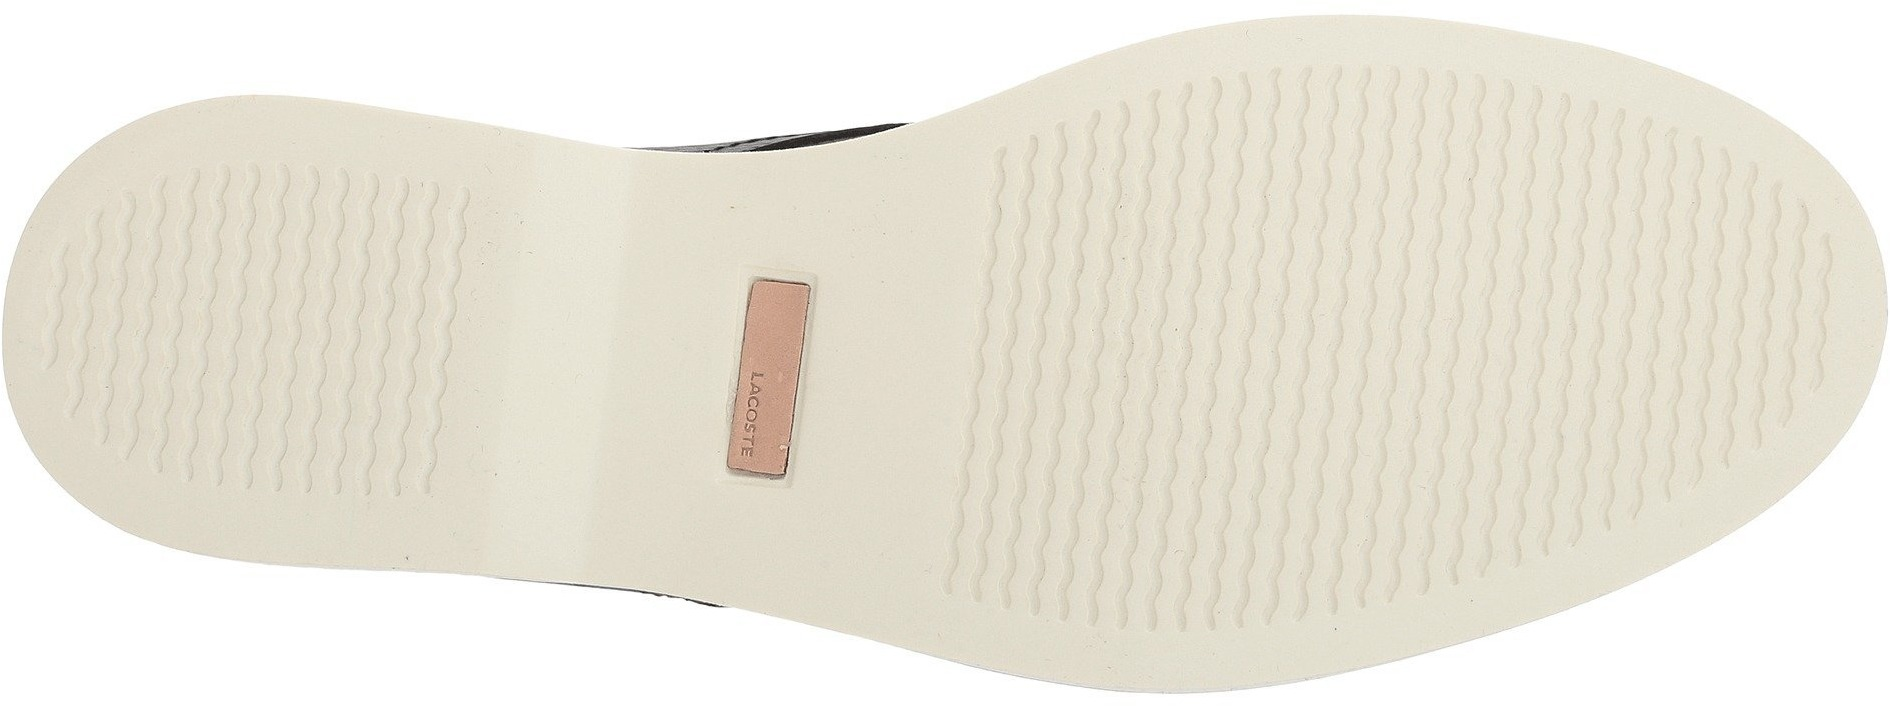chevron: (1220, 86, 1580, 445), (964, 373, 1215, 630), (1584, 173, 1819, 419), (990, 139, 1220, 361), (234, 166, 470, 377), (67, 226, 231, 414), (1219, 453, 1393, 629)
quad: (680, 259, 902, 492)
text: (723, 371, 814, 473)
